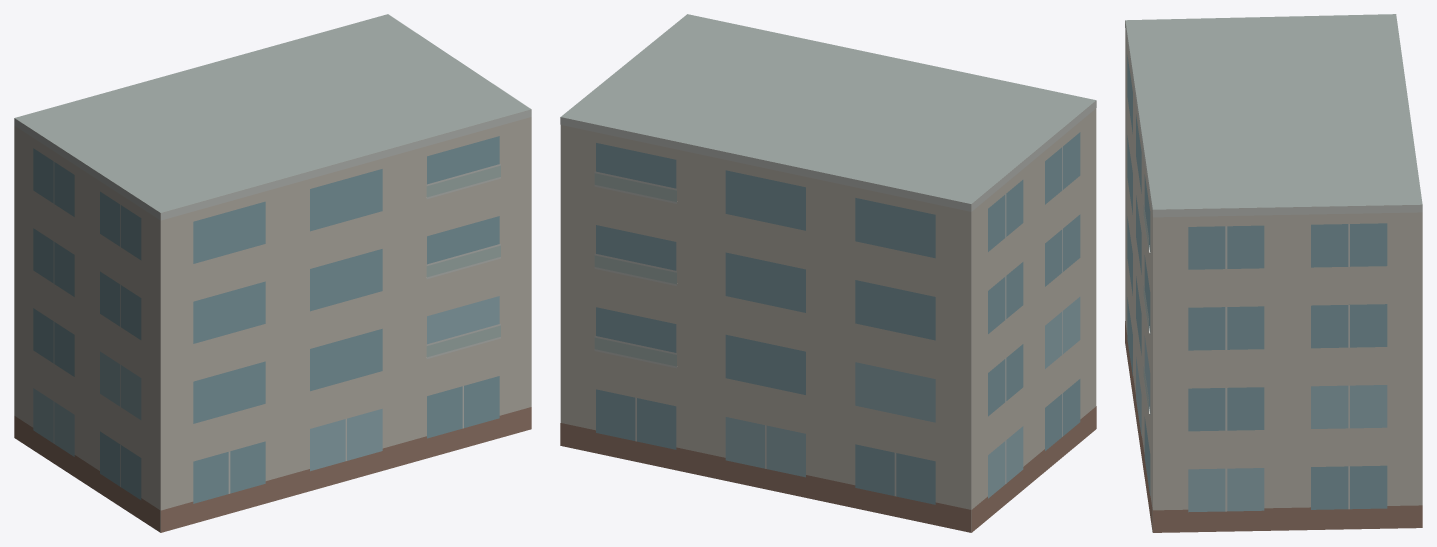
The model's file is survey-upis-32872571.glb.
The picture shows the model from 3 angles, left to right: view 1: azimuth 30°, elevation 25°; view 2: azimuth 150°, elevation 25°; view 3: azimuth 270°, elevation 25°; orthographic projection. The views are drawn at different scales.
Parts seen in each view (by area): view 1: survey-upis-32872571.tmp; view 2: survey-upis-32872571.tmp; view 3: survey-upis-32872571.tmp.
Boxes of the visible parts, x1,y1,x2,y2 form: survey-upis-32872571.tmp: (14, 14, 531, 532); survey-upis-32872571.tmp: (560, 14, 1096, 532); survey-upis-32872571.tmp: (1125, 14, 1422, 532).
Size of the model in its own units: 13.39 by 10.3 by 8.6.
